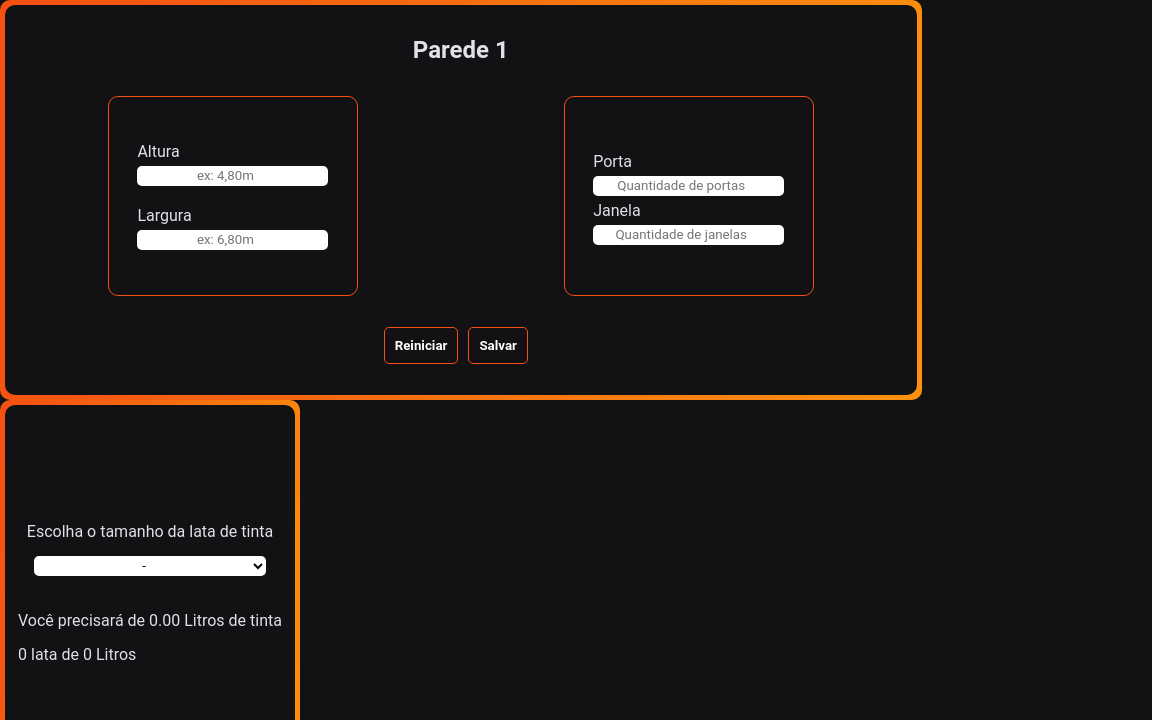
Test: Verifica as informçõe são alteradas conforme o usuário preenche o formulário › Verifica se o estado litros é alterado corretamente
The image size is (1152, 720).
Type "5" into the number field labelled "Altura" at {"x": 233, "y": 176}, box [137,166,328,186]
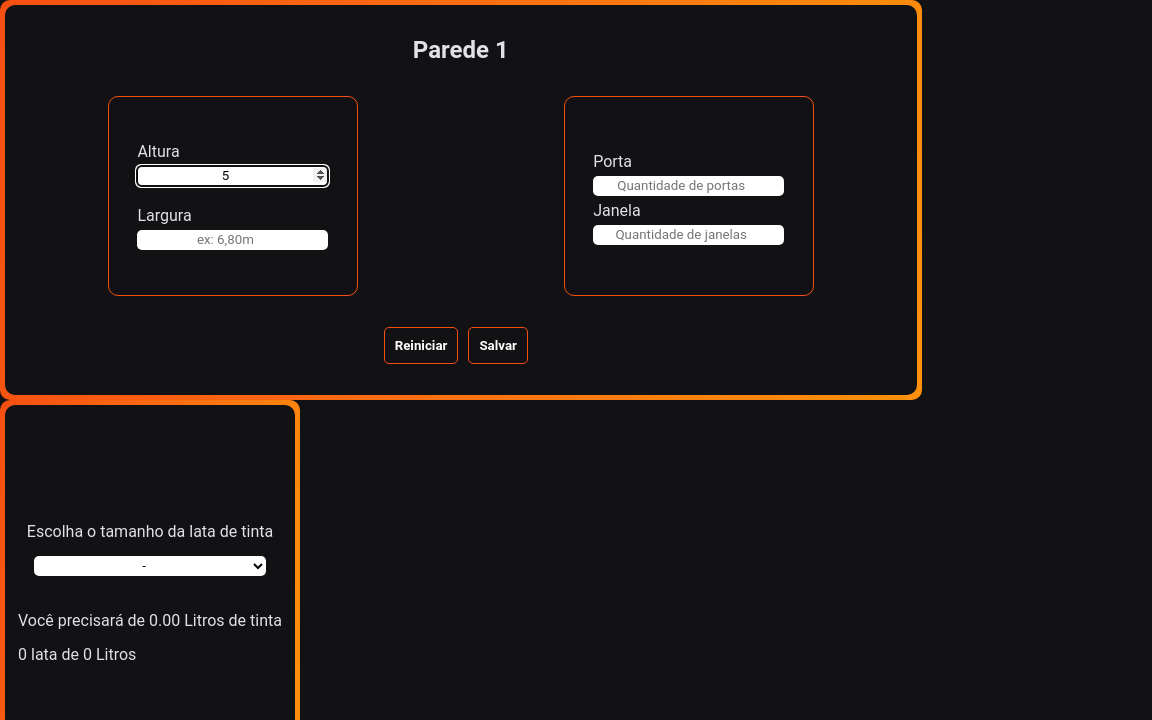
Type "5" into the number field labelled "Largura" at {"x": 233, "y": 240}, box [137,230,328,250]
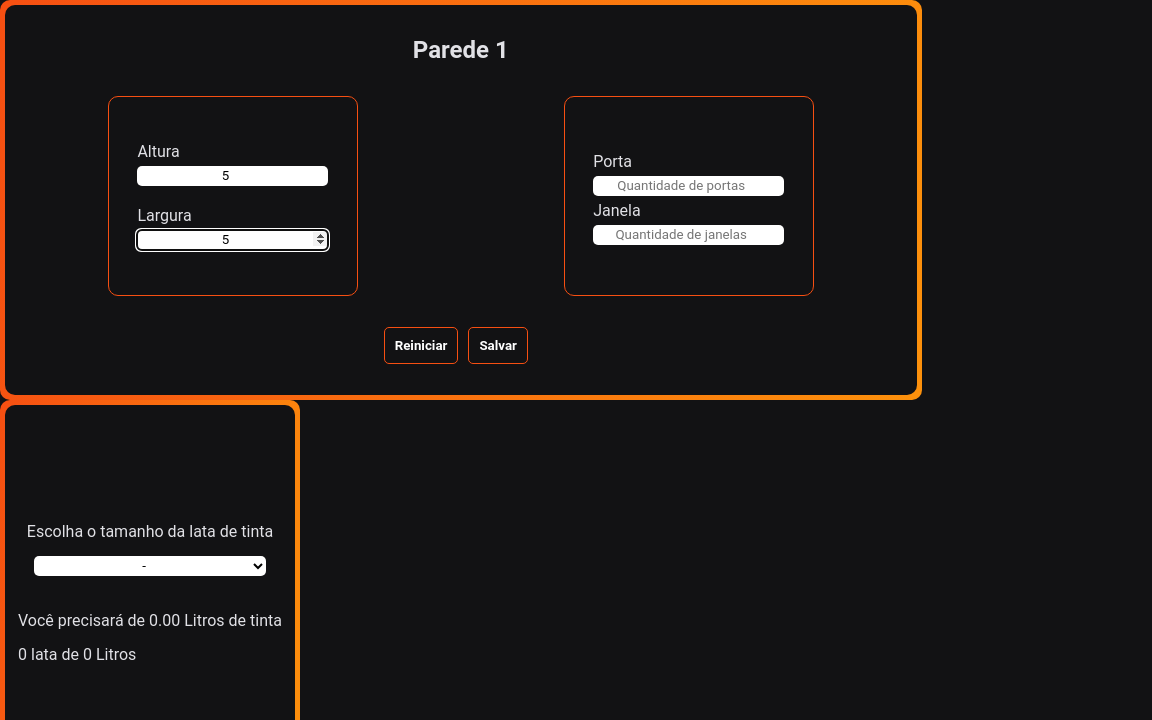
Click the button "Salvar" at {"x": 498, "y": 345}, box [468,327,528,364]
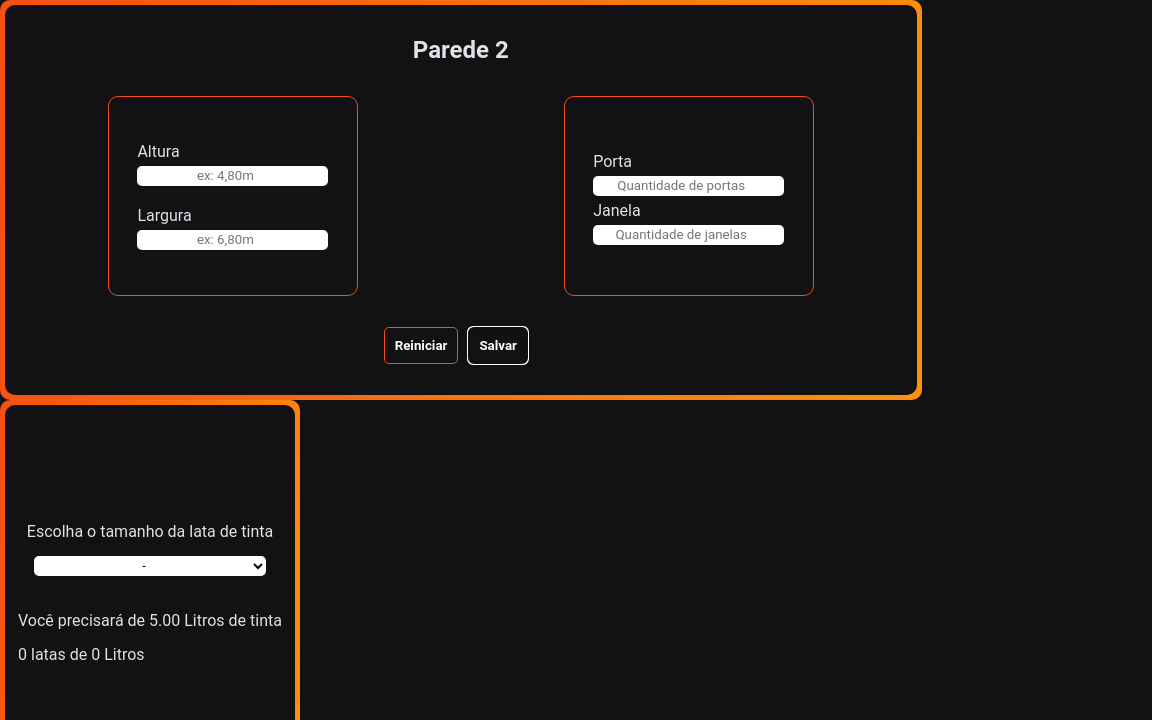
Check: the text "Você precisará de 5.00 Litros de tinta" is shown, box [18,610,282,630]
